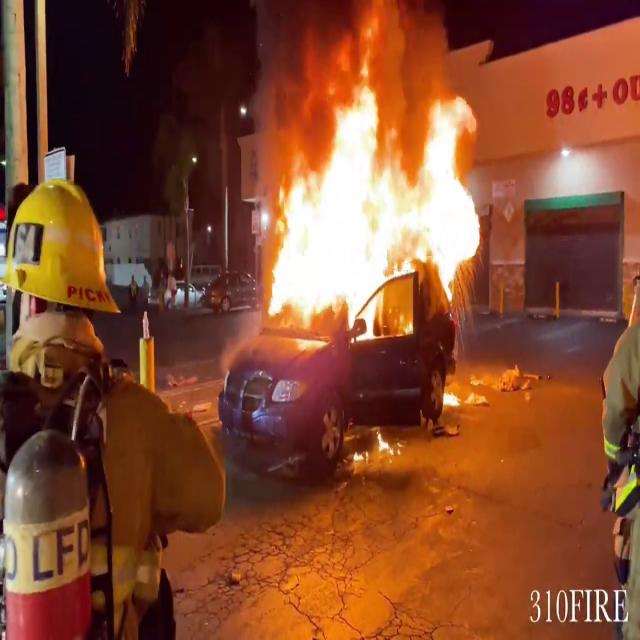Fire: (260, 13, 488, 334)
